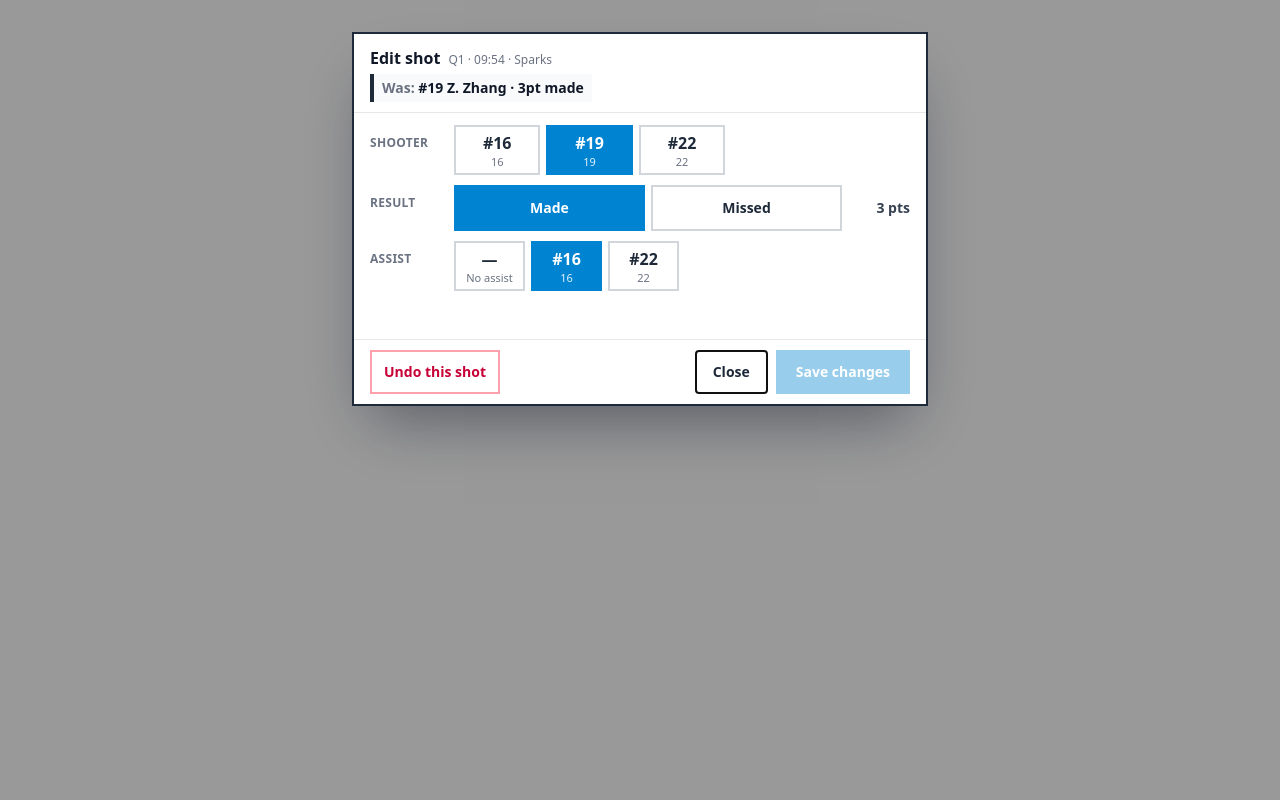
LogEditorModal › Undo asks first, and says exactly what it will do › does not undo on the first tap
Click the button "Undo this shot": (435, 372) left=370, top=350, right=500, bottom=394
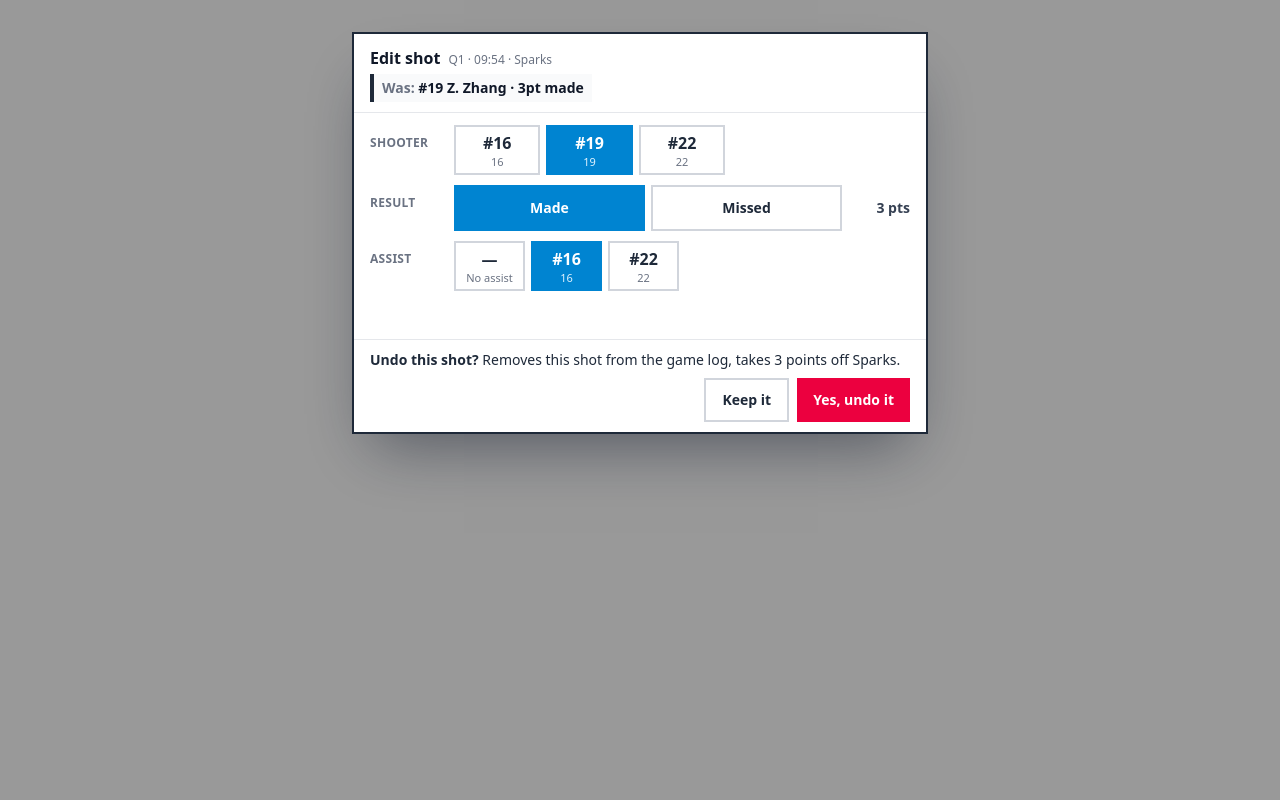
Check: the dialog shows "Removes this shot from the game log, takes 3 points off Sparks.", box left=482, top=350, right=900, bottom=368
